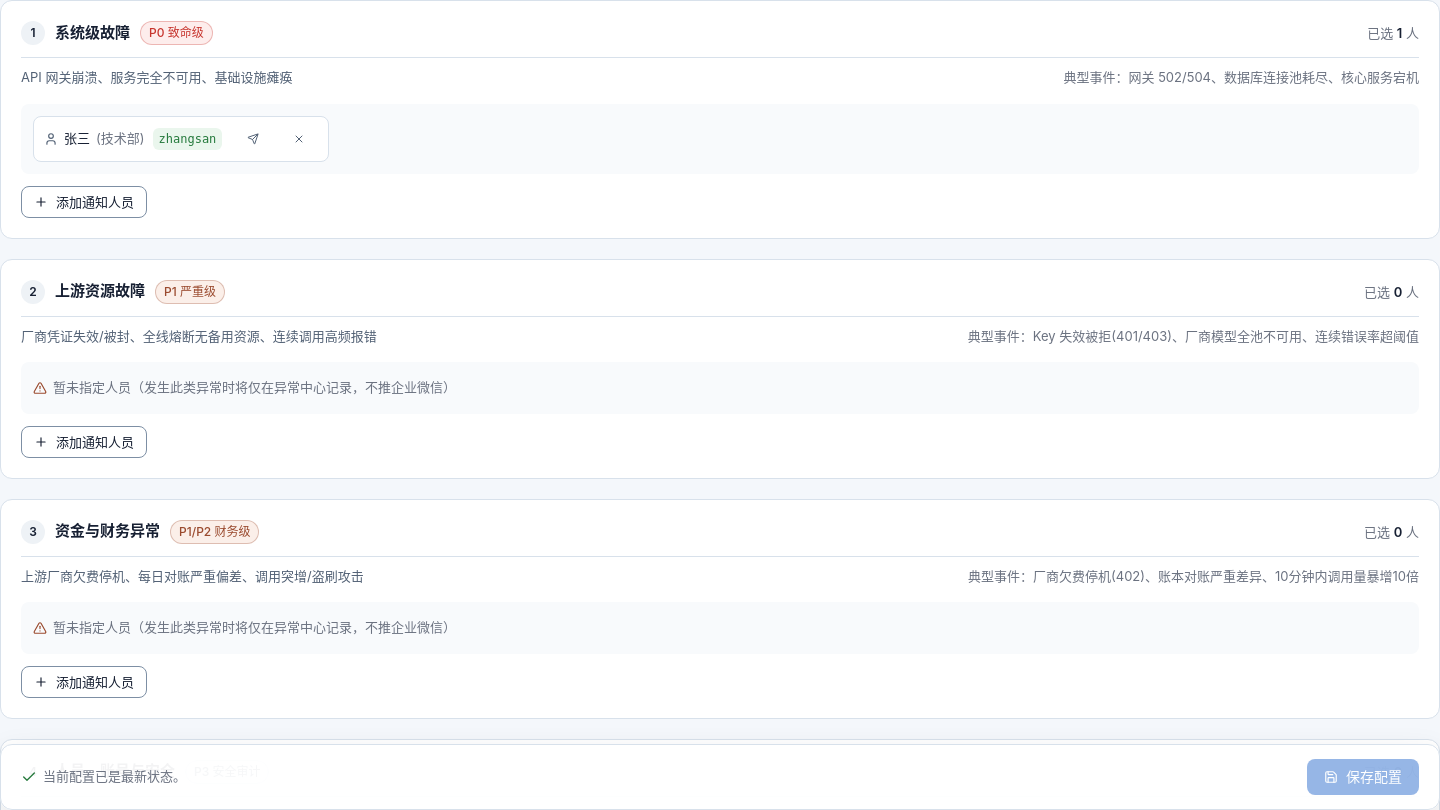
NotificationRecipientsPanel › 支持移除已选人员并标记有未保存变更
Click the button named "移除 张三": {"x": 299, "y": 138} 280,122 -> 318,154
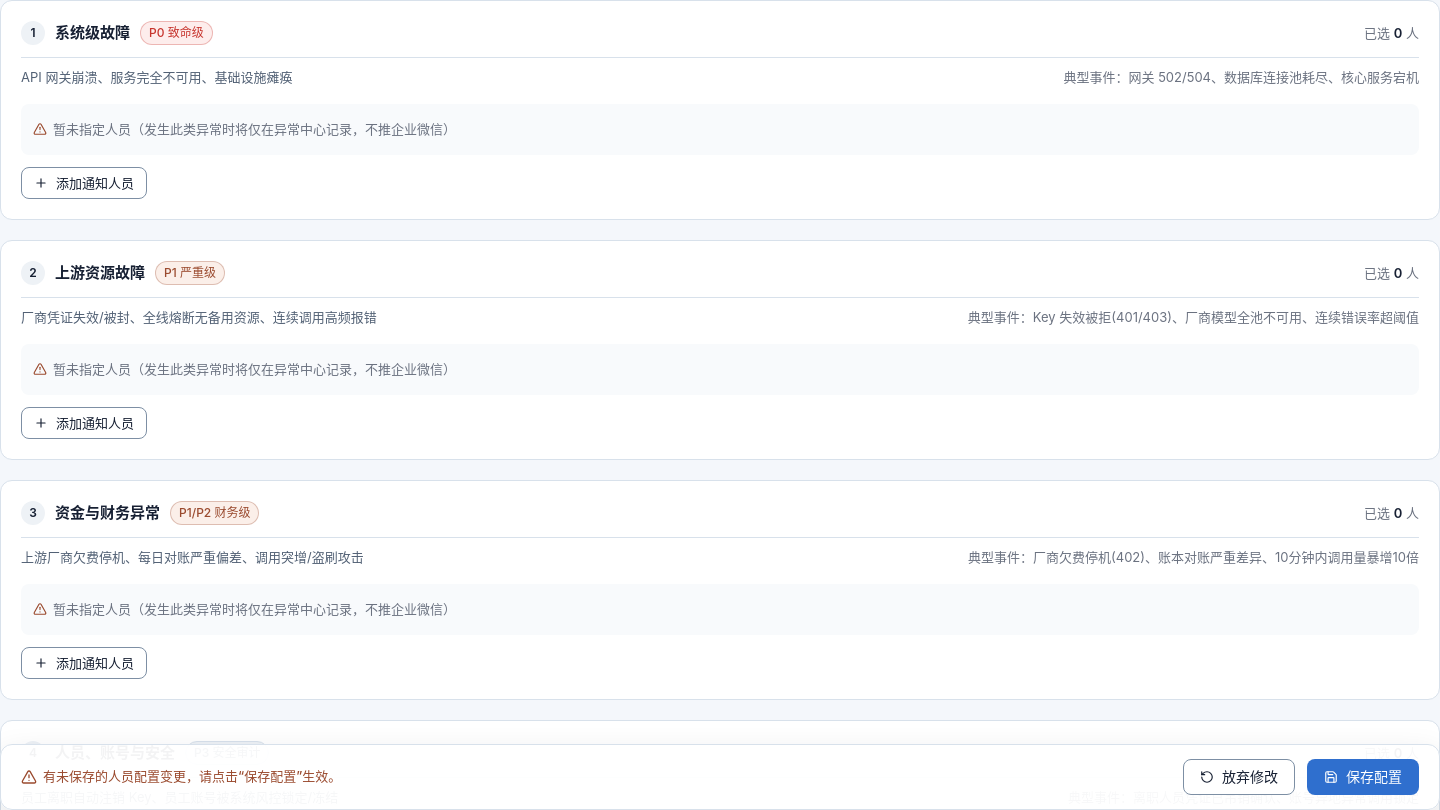
Check: the text "张三" is gone
Check: the text "有未保存的人员配置变更，请点击“保存配置”生效。" is shown, box 21,767 -> 341,787
